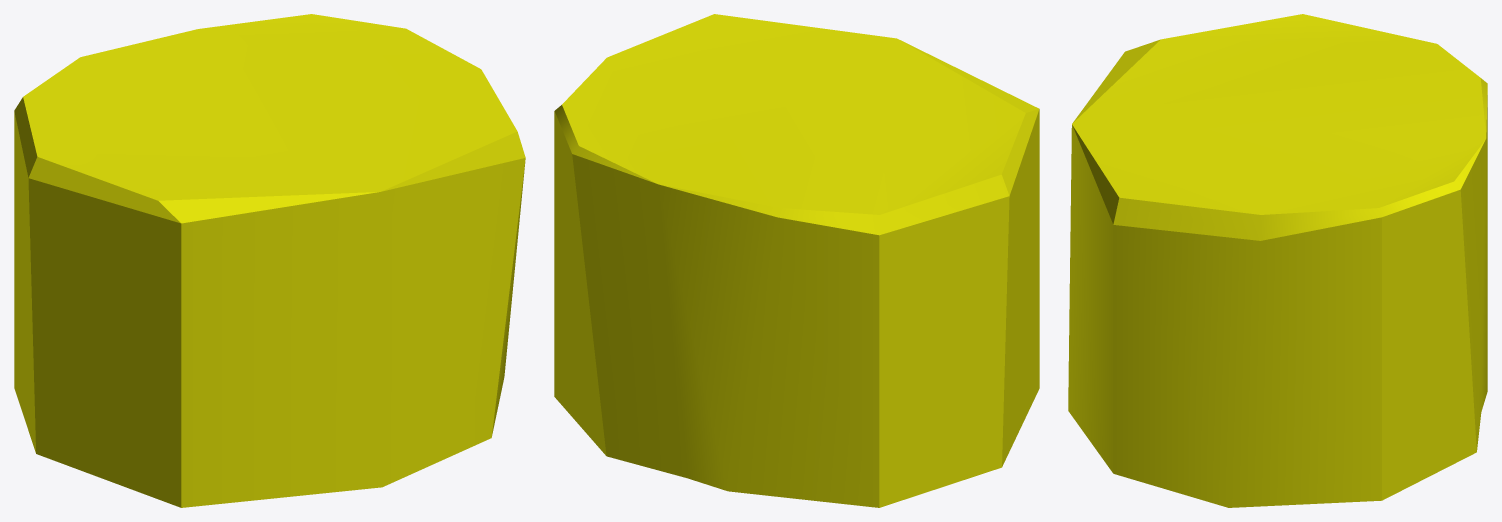
3 renders of one model, left to right at view 1: azimuth 30°, elevation 25°; view 2: azimuth 150°, elevation 25°; view 3: azimuth 270°, elevation 25°, orthographic. The views are drawn at different scales.
Visible parts, largest first — view 1: dao; view 2: dao; view 3: dao.
Boxes of the visible parts, x1,y1,x2,y2 form: dao: [14, 14, 525, 507]; dao: [554, 14, 1039, 507]; dao: [1068, 14, 1487, 507].
Size of the model in its own units: 12.42 by 8.07 by 10.58.
Materials: 1 (1 with a texture image).
